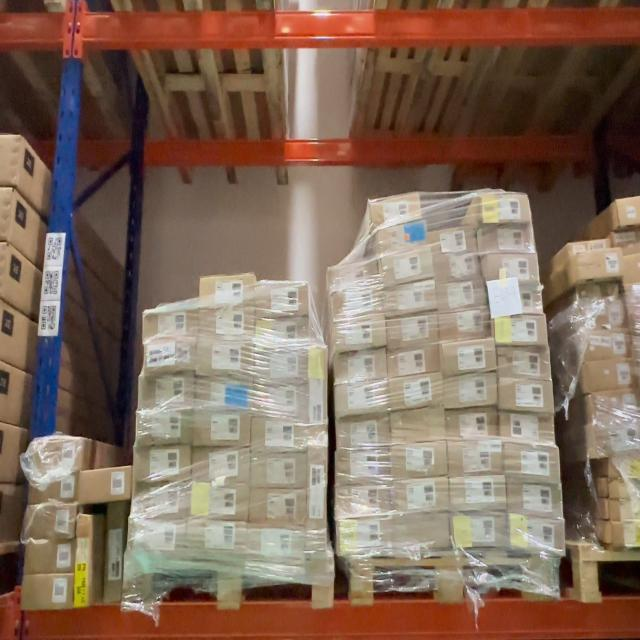box: (189, 521, 248, 559), (130, 520, 190, 557), (198, 341, 255, 379), (504, 446, 559, 484), (192, 486, 250, 522), (451, 474, 505, 512), (135, 448, 192, 484), (252, 452, 309, 488), (248, 526, 308, 560), (394, 478, 450, 514), (253, 384, 312, 418), (198, 379, 255, 414), (196, 412, 251, 448), (251, 489, 306, 525), (107, 501, 127, 600), (336, 450, 392, 485), (194, 449, 250, 484), (136, 412, 192, 447), (251, 417, 307, 452), (392, 441, 446, 477), (333, 316, 388, 351), (390, 408, 446, 442), (140, 376, 194, 411), (451, 515, 506, 549), (394, 516, 452, 548), (450, 440, 503, 475), (340, 521, 393, 556), (200, 306, 256, 339), (507, 484, 561, 518), (144, 340, 198, 374), (498, 380, 552, 414), (443, 339, 497, 373), (201, 274, 256, 307), (490, 282, 545, 315), (255, 350, 308, 384), (258, 281, 311, 315), (134, 485, 190, 517), (387, 314, 438, 349), (144, 306, 198, 339), (502, 413, 556, 446), (497, 348, 549, 382), (336, 486, 391, 518), (391, 377, 444, 410), (75, 512, 93, 609), (585, 359, 636, 393), (510, 518, 562, 551), (80, 468, 132, 501), (495, 315, 547, 348), (379, 251, 434, 282), (337, 416, 390, 448), (256, 316, 312, 346), (591, 421, 639, 456), (333, 354, 387, 385), (27, 506, 76, 540), (384, 282, 436, 314), (445, 376, 497, 408), (33, 438, 83, 471), (336, 384, 389, 415), (375, 223, 429, 253), (446, 410, 498, 441), (330, 262, 380, 294), (26, 576, 73, 610), (26, 540, 74, 573), (373, 195, 424, 226), (479, 192, 528, 224), (481, 224, 535, 253), (388, 348, 440, 378), (439, 309, 491, 339), (485, 252, 539, 280), (29, 475, 78, 505), (436, 280, 484, 310), (590, 392, 638, 422), (582, 330, 630, 360), (308, 350, 326, 430), (334, 288, 384, 316), (432, 227, 478, 256), (435, 254, 481, 281), (578, 307, 626, 332), (572, 252, 618, 278), (576, 283, 617, 305), (609, 520, 640, 545), (609, 455, 639, 478), (617, 195, 640, 225), (610, 500, 640, 522), (571, 238, 612, 254), (610, 481, 638, 499)
